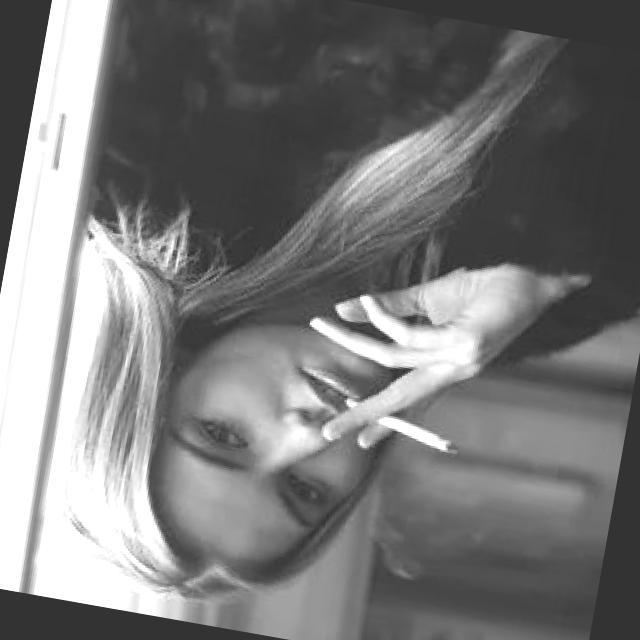cigarette: (330, 392, 468, 460)
